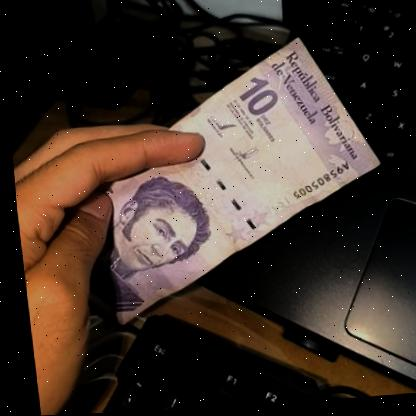ten-front-vef: (81, 31, 394, 329)
